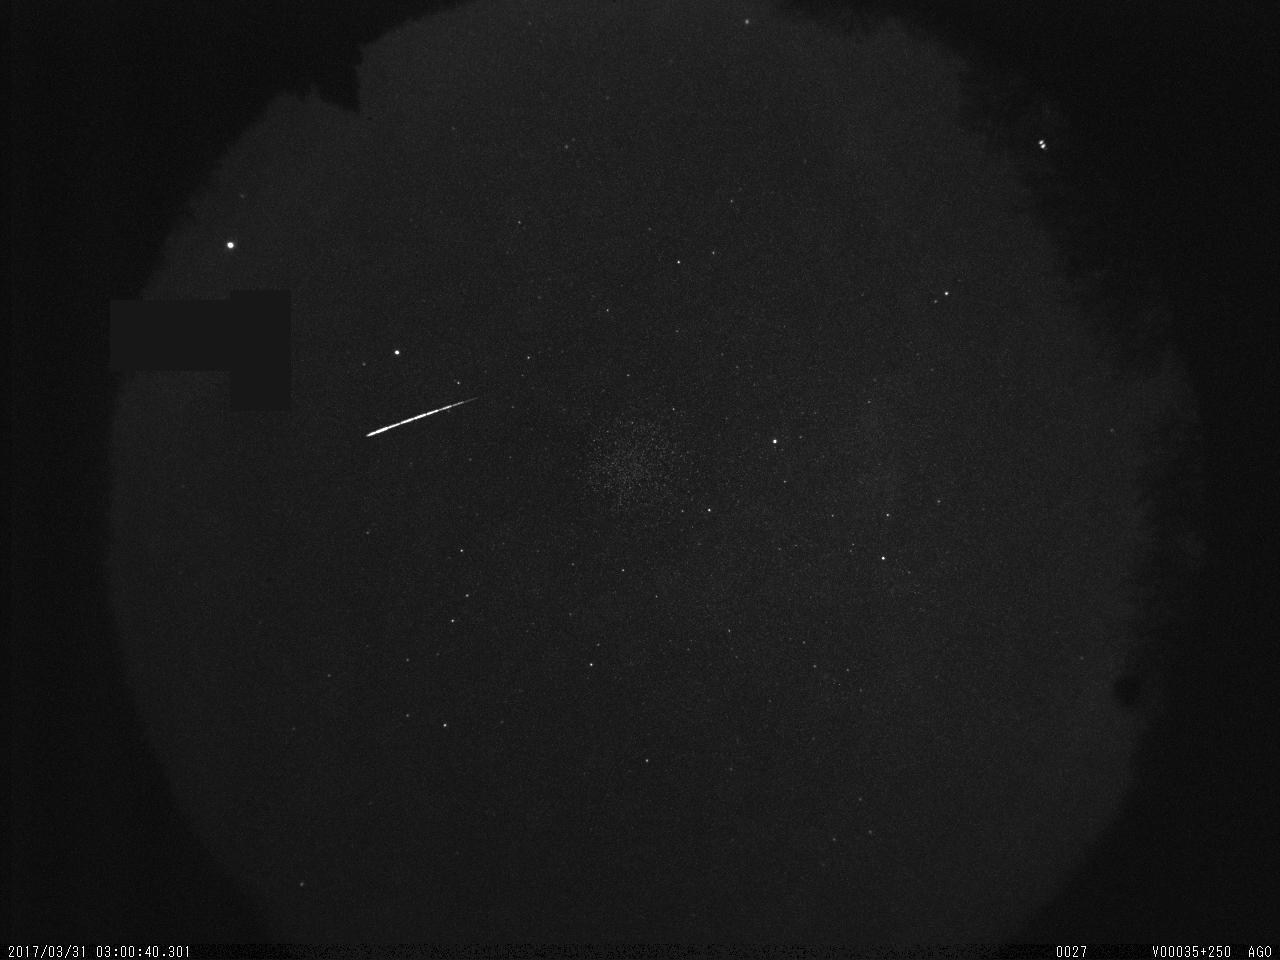meteor: (349, 384, 497, 456)
